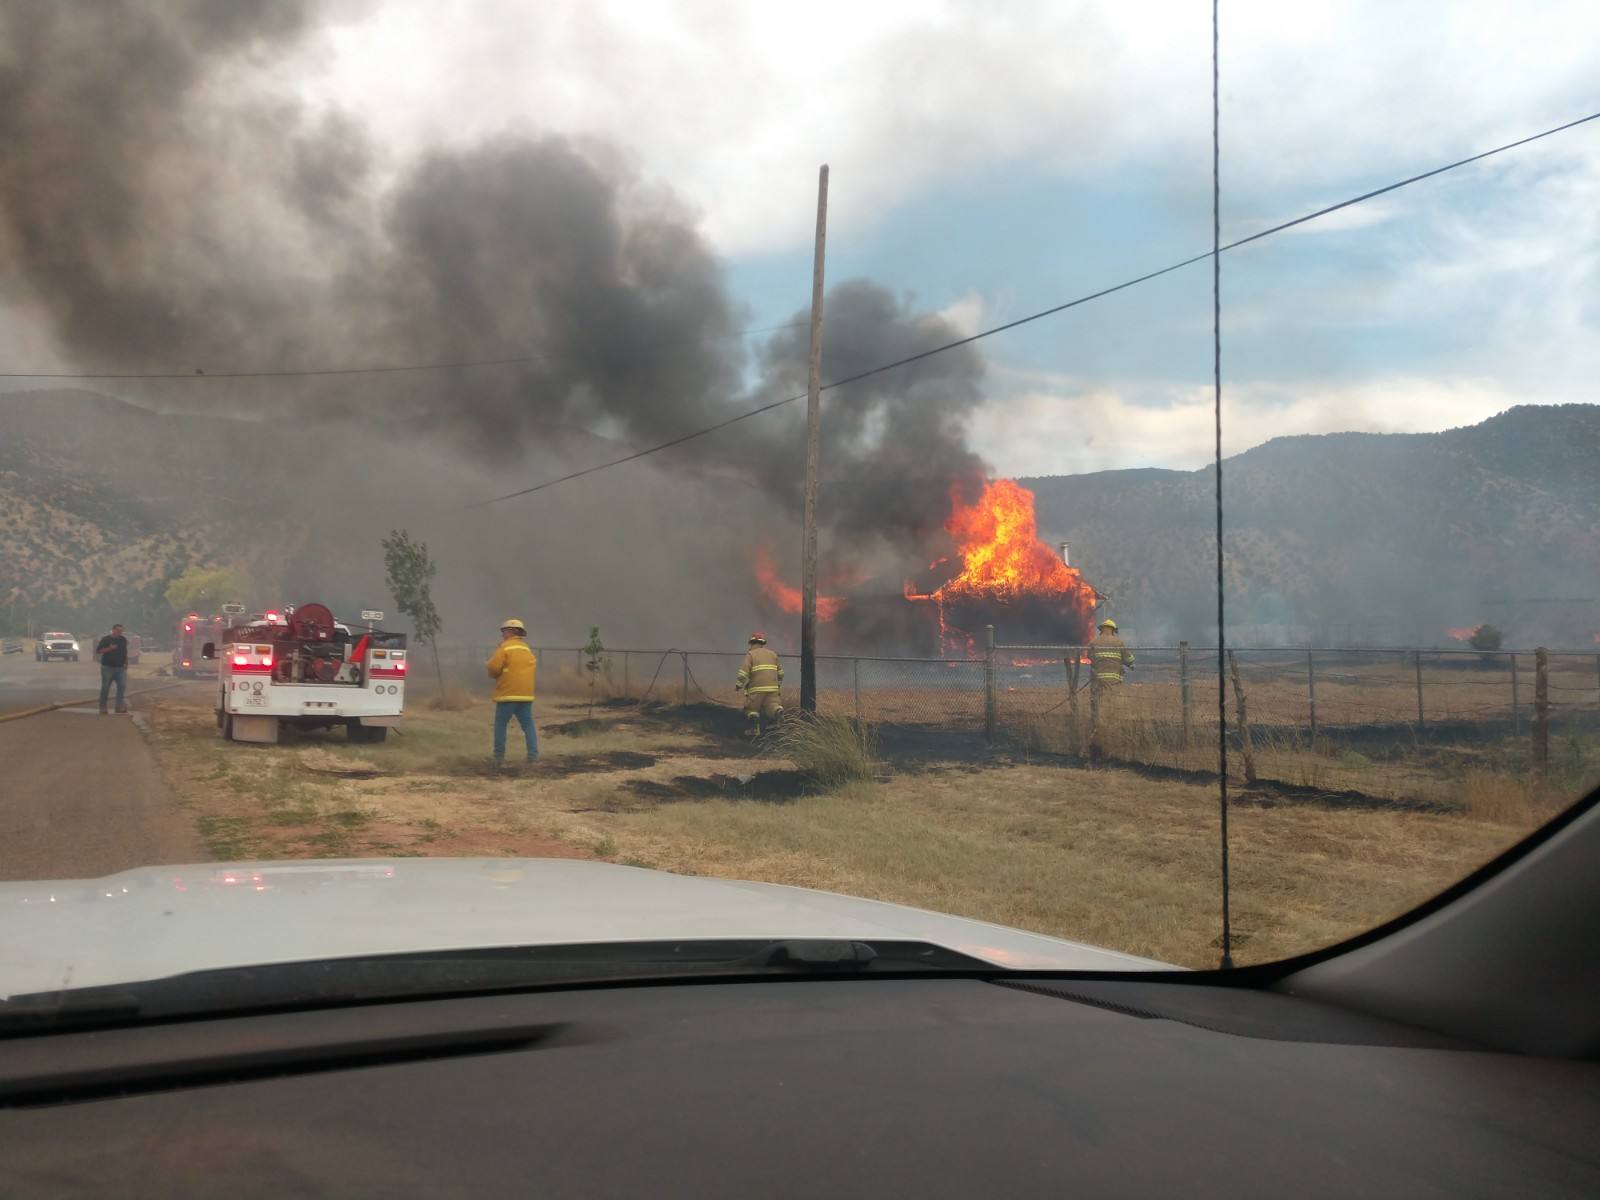fire: (940, 485, 1094, 613)
smoke: (15, 25, 945, 488)
